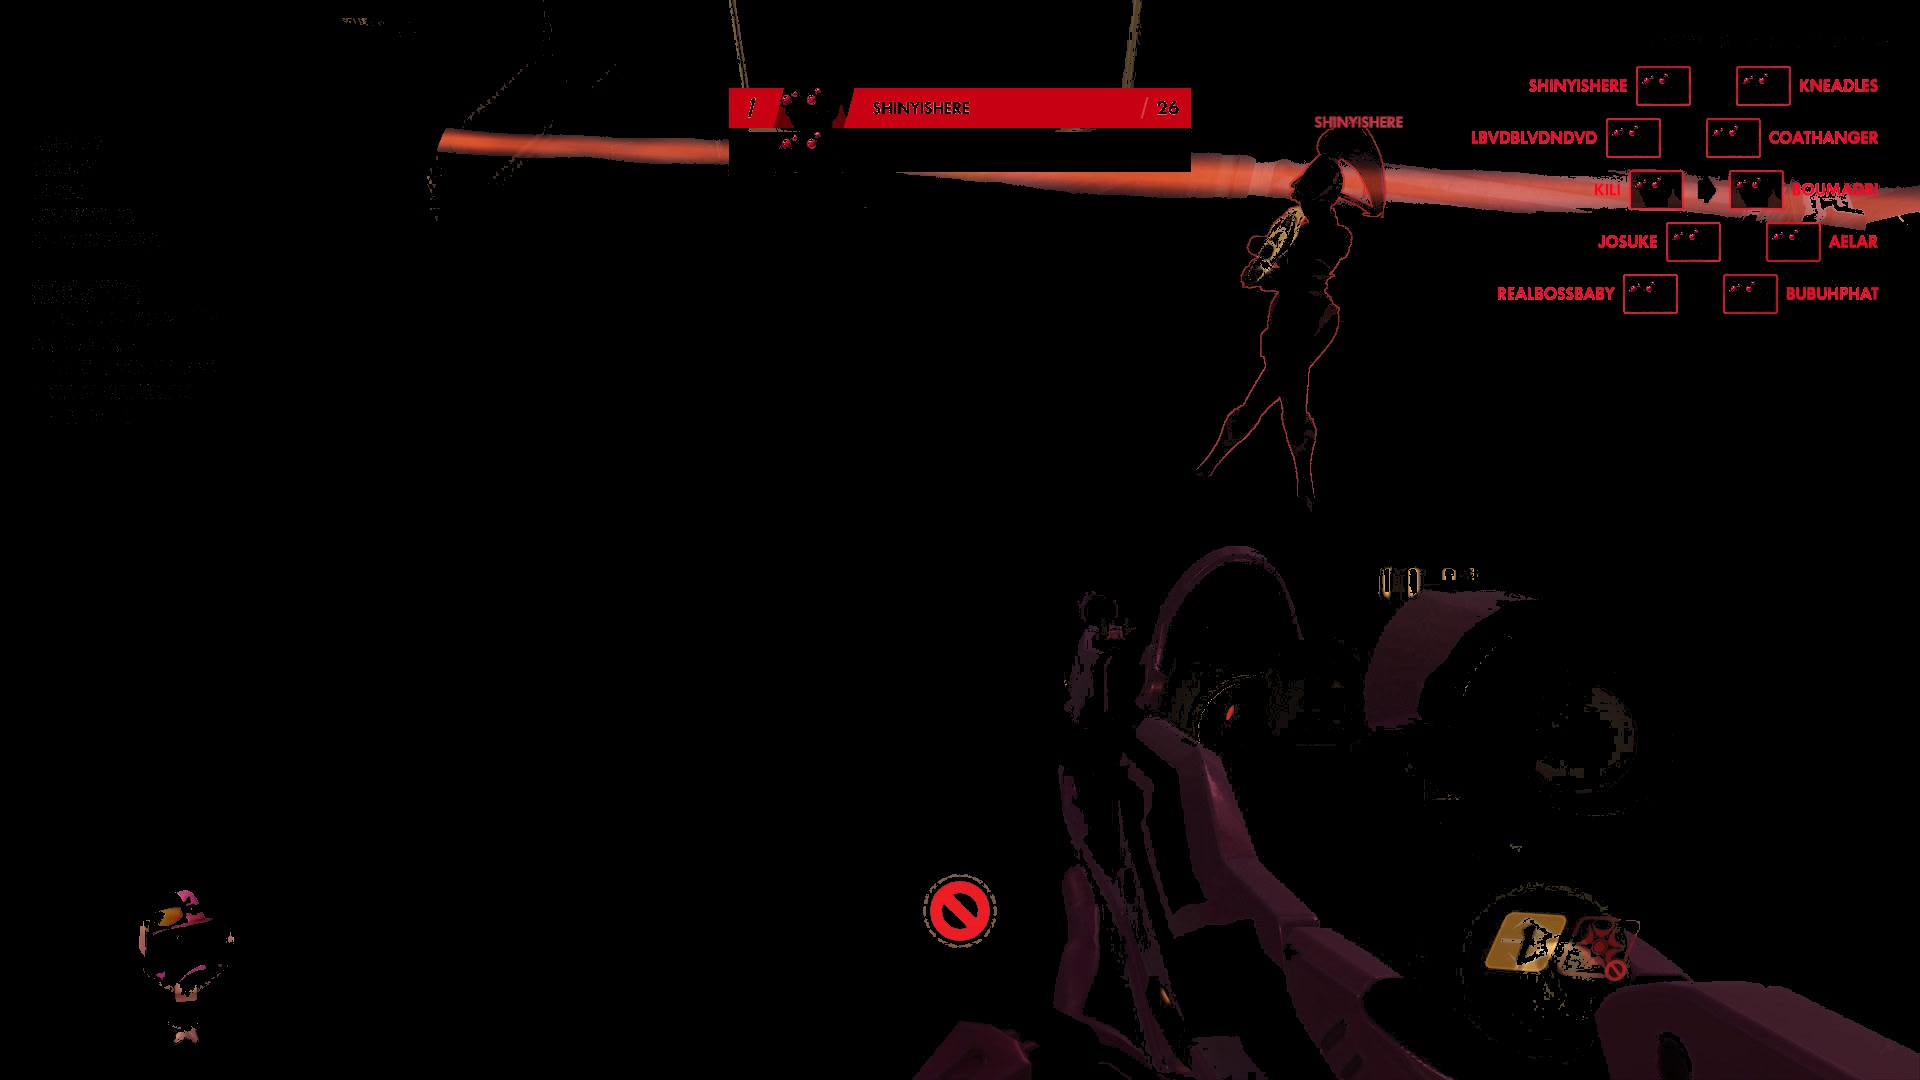widowmaker: (1172, 153, 1362, 538)
